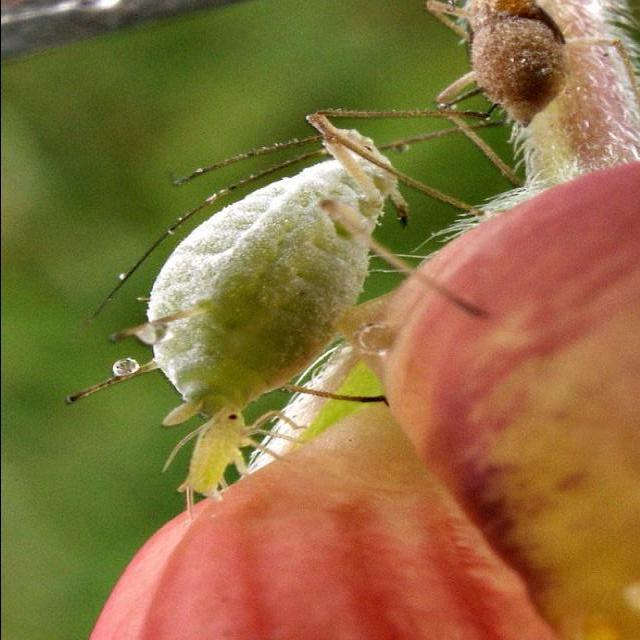aphid: (82, 98, 506, 428), (167, 396, 287, 517)
